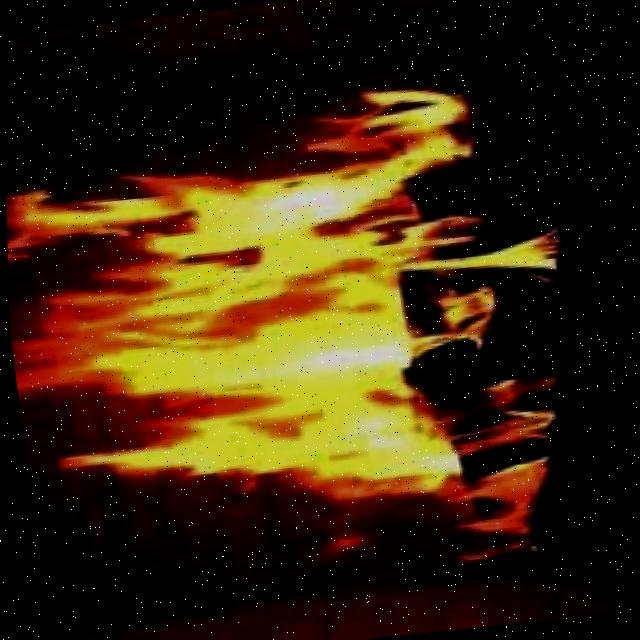Fire: (1, 54, 611, 617)
